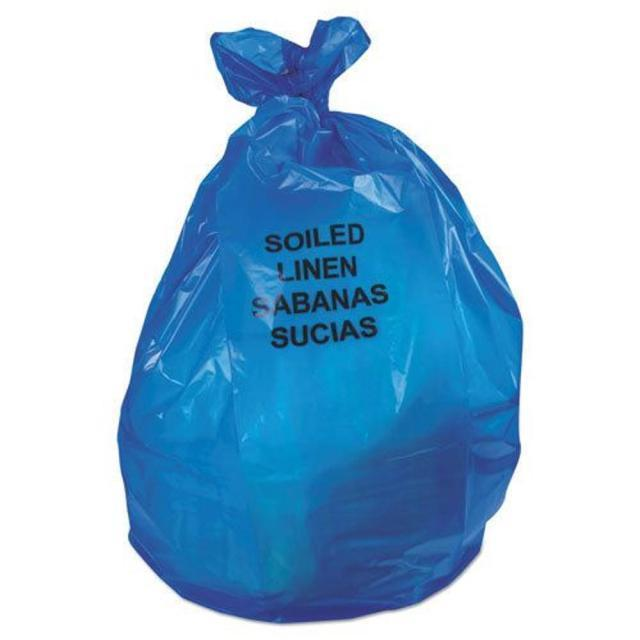Garbage_Bag: (138, 23, 516, 622)
